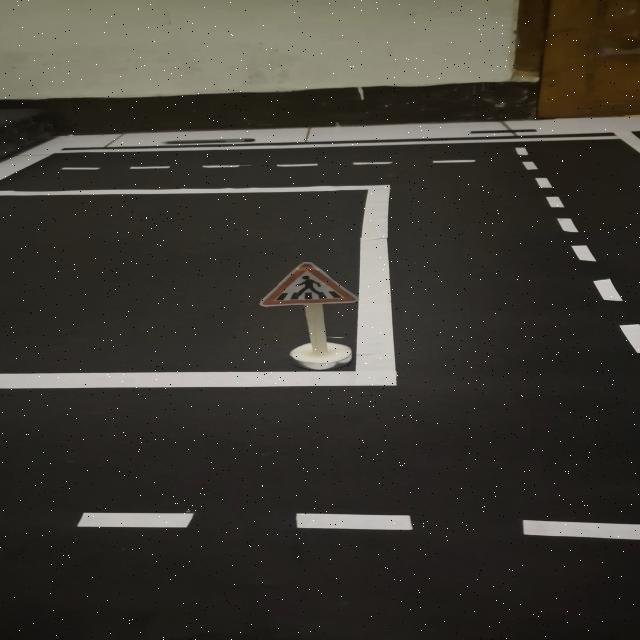Rambu Penyebrangan: (260, 262, 358, 307)
